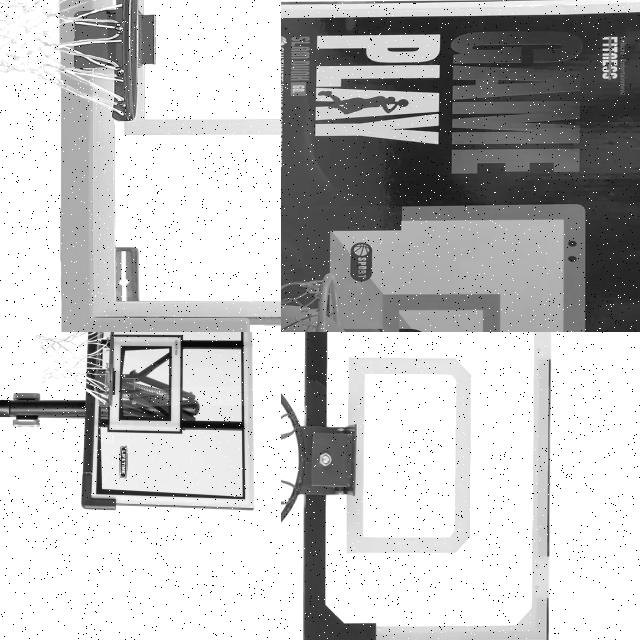backboard: (288, 332, 566, 640), (64, 0, 281, 332), (306, 210, 593, 332), (82, 332, 256, 505)
